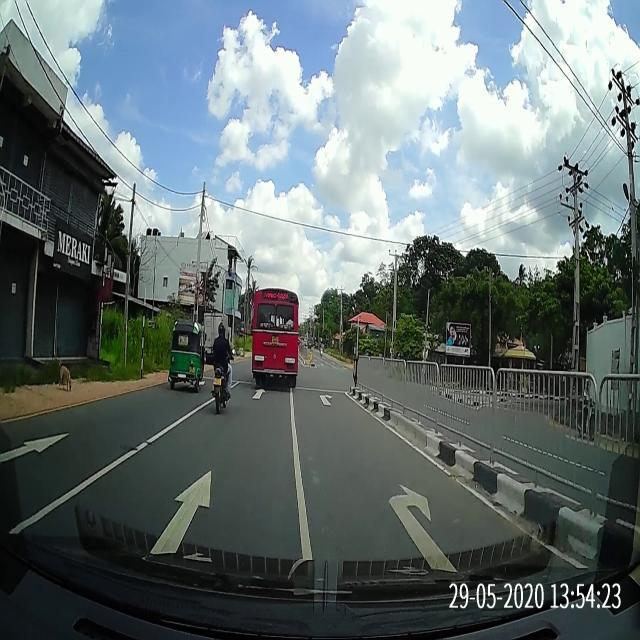forward: (7, 444, 308, 564)
right: (300, 472, 593, 571)
